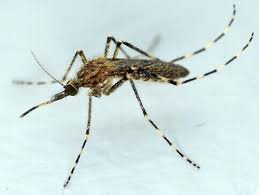mosquito: (9, 3, 254, 189)
